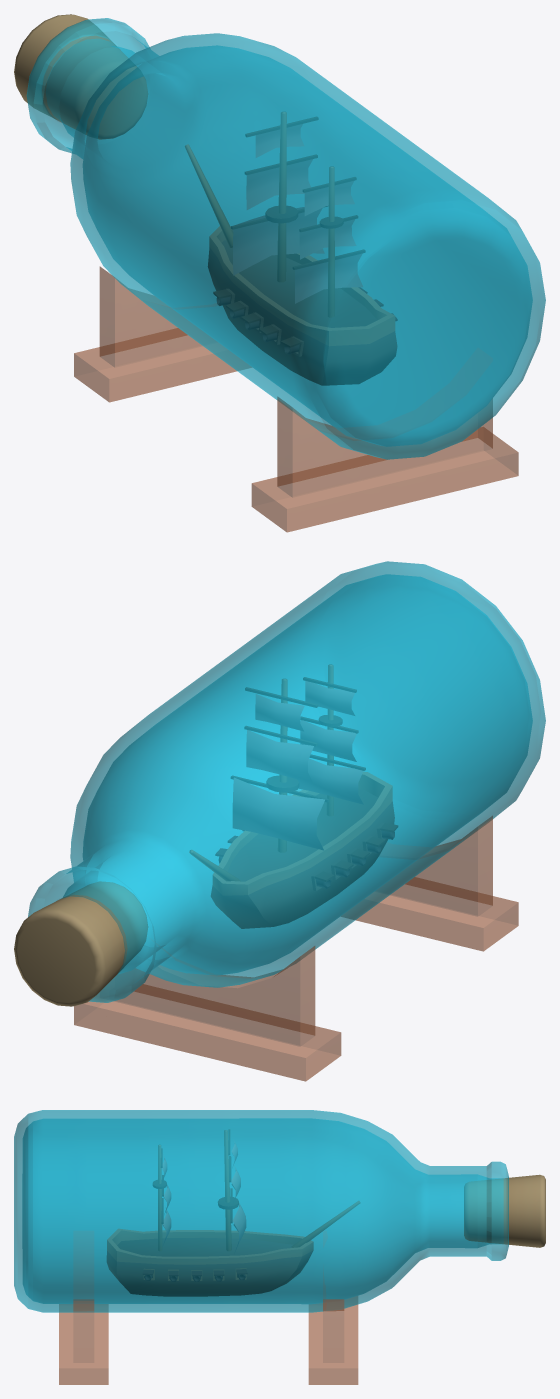
The model's file is OBJ_ShipInABottle.fbx.
The picture shows the model from 3 angles, top to bottom: view 1: azimuth 30°, elevation 25°; view 2: azimuth 150°, elevation 25°; view 3: azimuth 270°, elevation 25°; orthographic projection. The views are drawn at different scales.
Visible parts, largest first — view 1: SIAB_Bottle, SIAB_Ship; view 2: SIAB_Bottle, SIAB_Ship; view 3: SIAB_Bottle, SIAB_Ship.
Part boxes in pixels (x1,y1,x2,y2): SIAB_Bottle: [26, 18, 545, 459]; SIAB_Ship: [14, 14, 518, 532]; SIAB_Bottle: [28, 561, 545, 1002]; SIAB_Ship: [14, 664, 518, 1081]; SIAB_Bottle: [14, 1110, 508, 1312]; SIAB_Ship: [59, 1129, 545, 1384].
Bounding box in the file's own units: 54.34 × 66.51 × 142.
